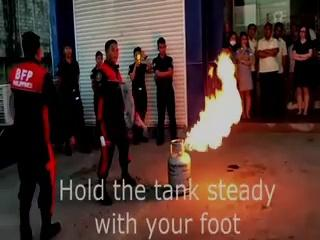Fire: (181, 50, 232, 153)
